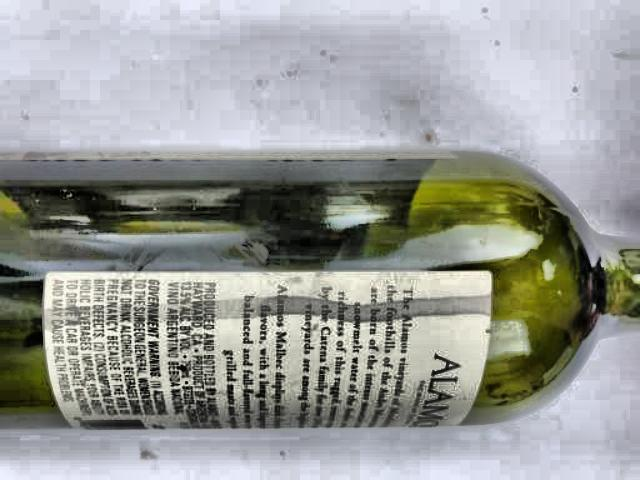Bottles: (0, 119, 640, 453)
